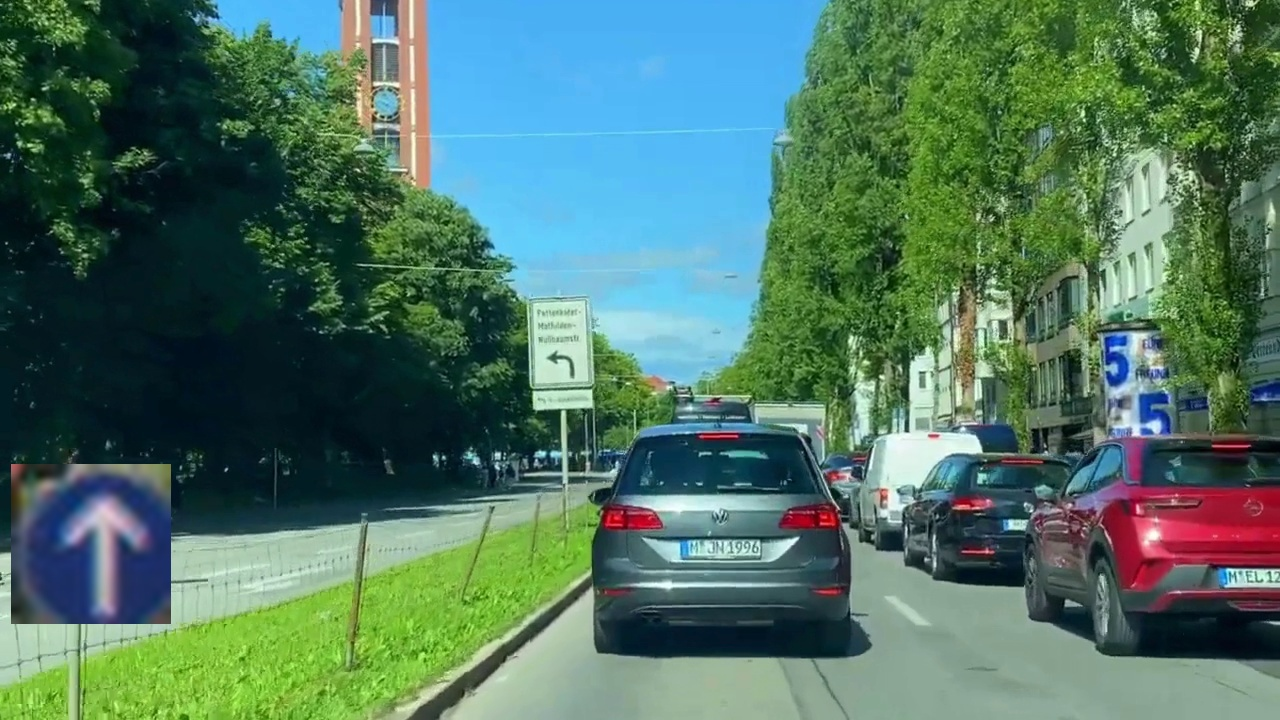Ahead only: (11, 464, 171, 624)
